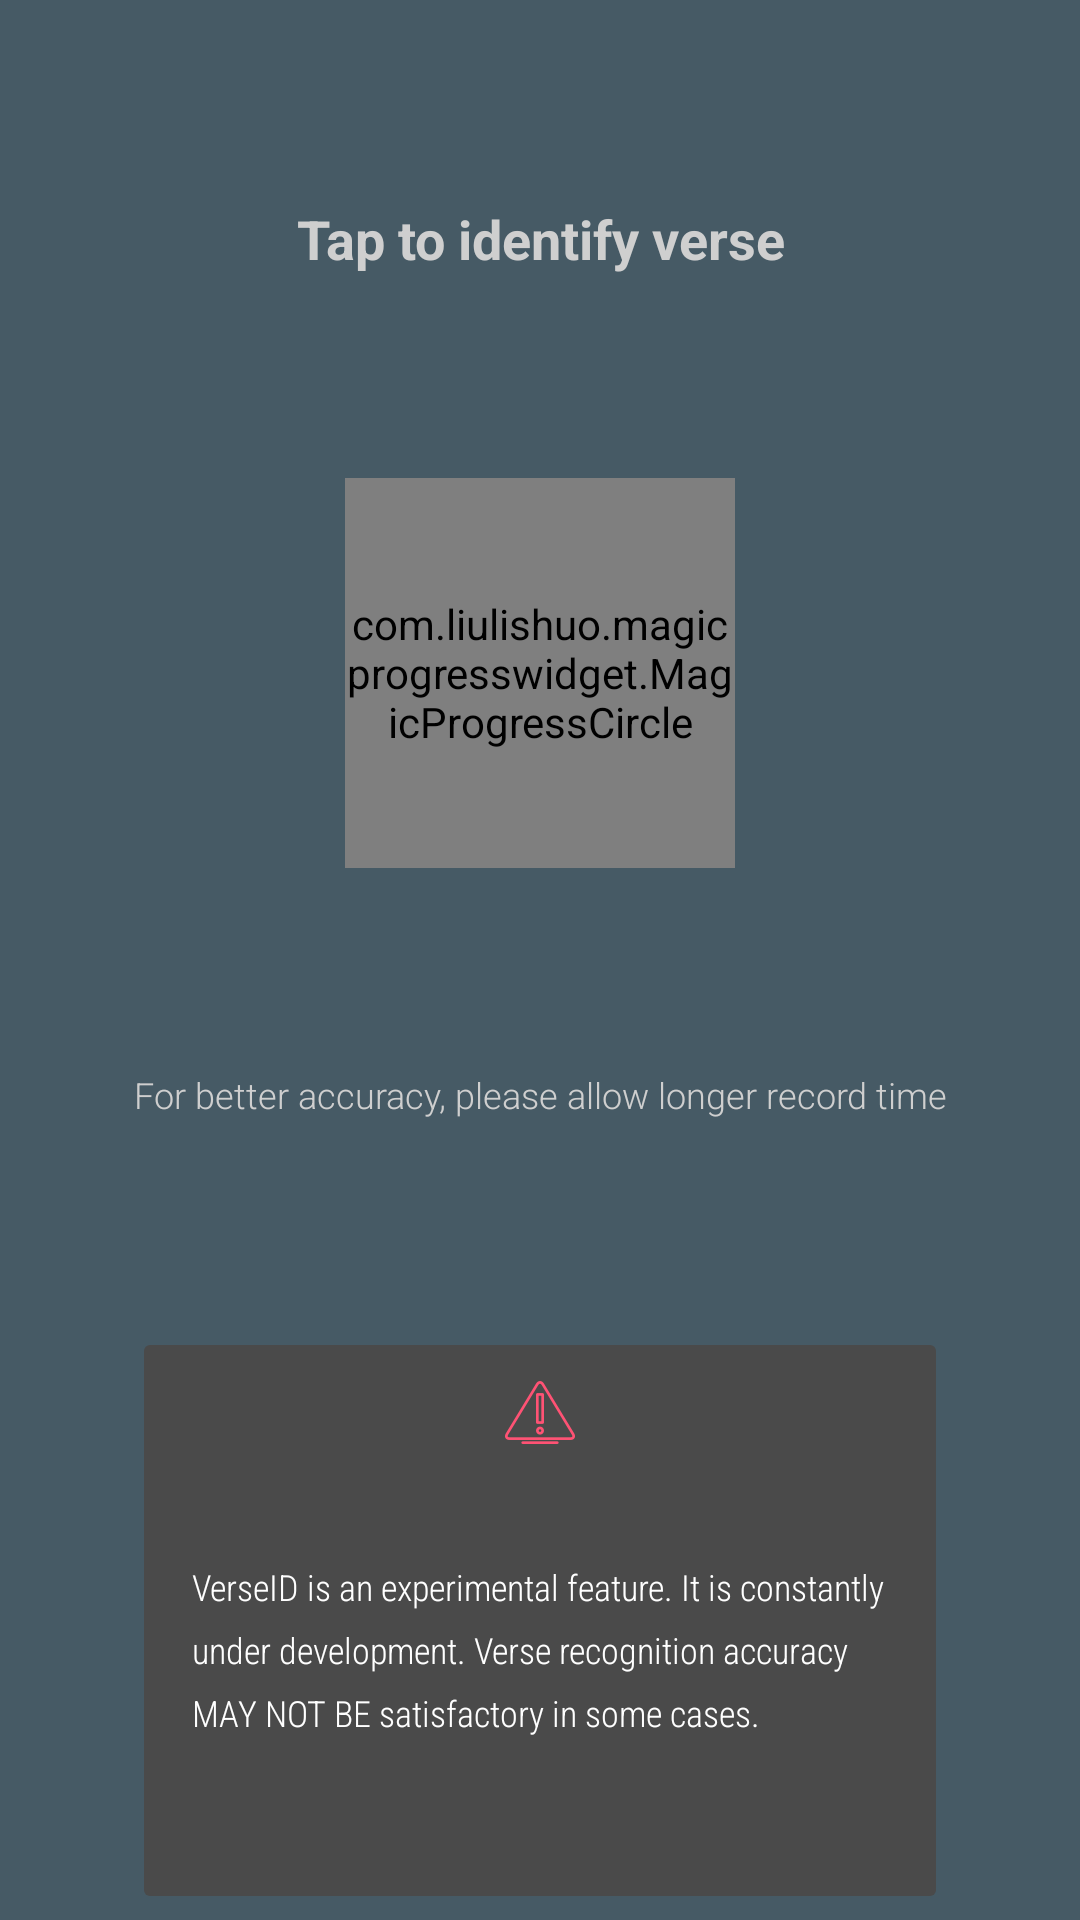

Where to tap for icons on this 1080w x 1920h app screen, as [x,y]:
warning: [540,1412]
